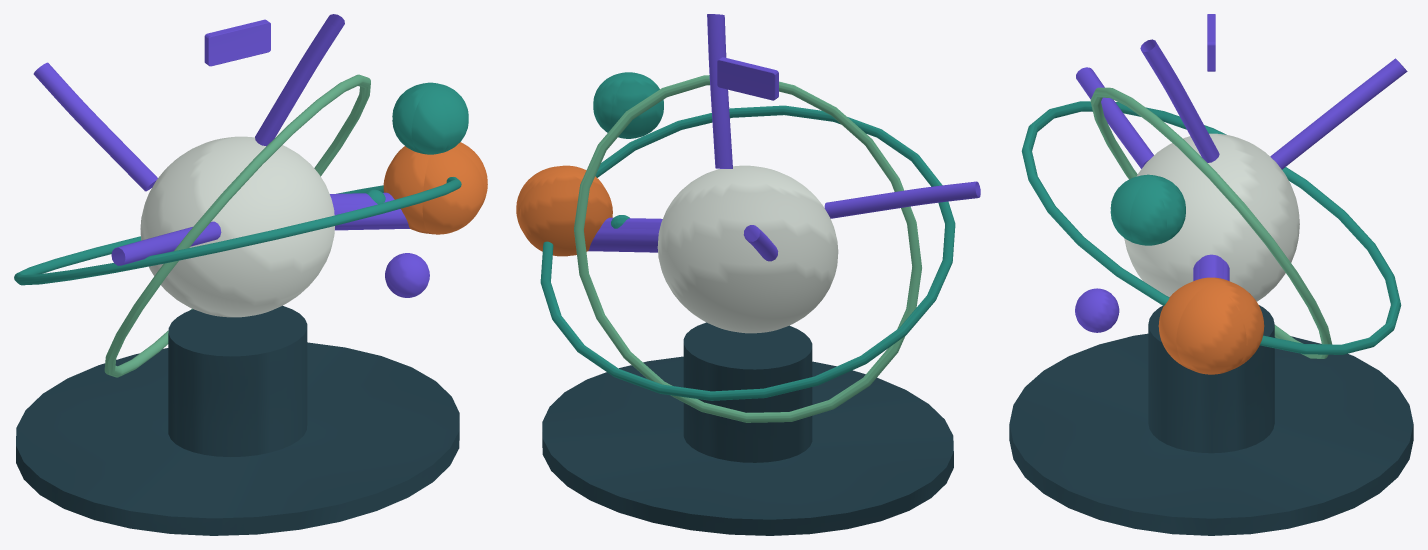
File: 0503_生活中的化学图鉴_原子.glb
3 views of the same model, side by side, from view 1: azimuth 30°, elevation 25°; view 2: azimuth 150°, elevation 25°; view 3: azimuth 270°, elevation 25° (orthographic). The views are drawn at different scales.
Visible parts, largest first — view 1: card_0503; view 2: card_0503; view 3: card_0503.
Boxes of the visible parts, x1,y1,x2,y2 form: card_0503: (14, 14, 487, 535); card_0503: (516, 14, 980, 535); card_0503: (1009, 14, 1413, 535).
Bounding box in the file's own units: 1.07 × 1 × 0.8496.
